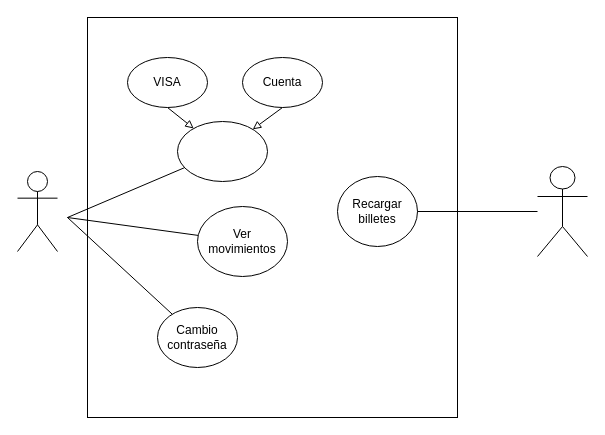
Image size: 605x435. Some labels were removed from this diagram. Here are the shapes that lost their labels. From the top down, the centre of each, then its label:
At (222,151): "Realizar reintegro".
At (37,211): "Cliente".
At (562,211): "Operario".
